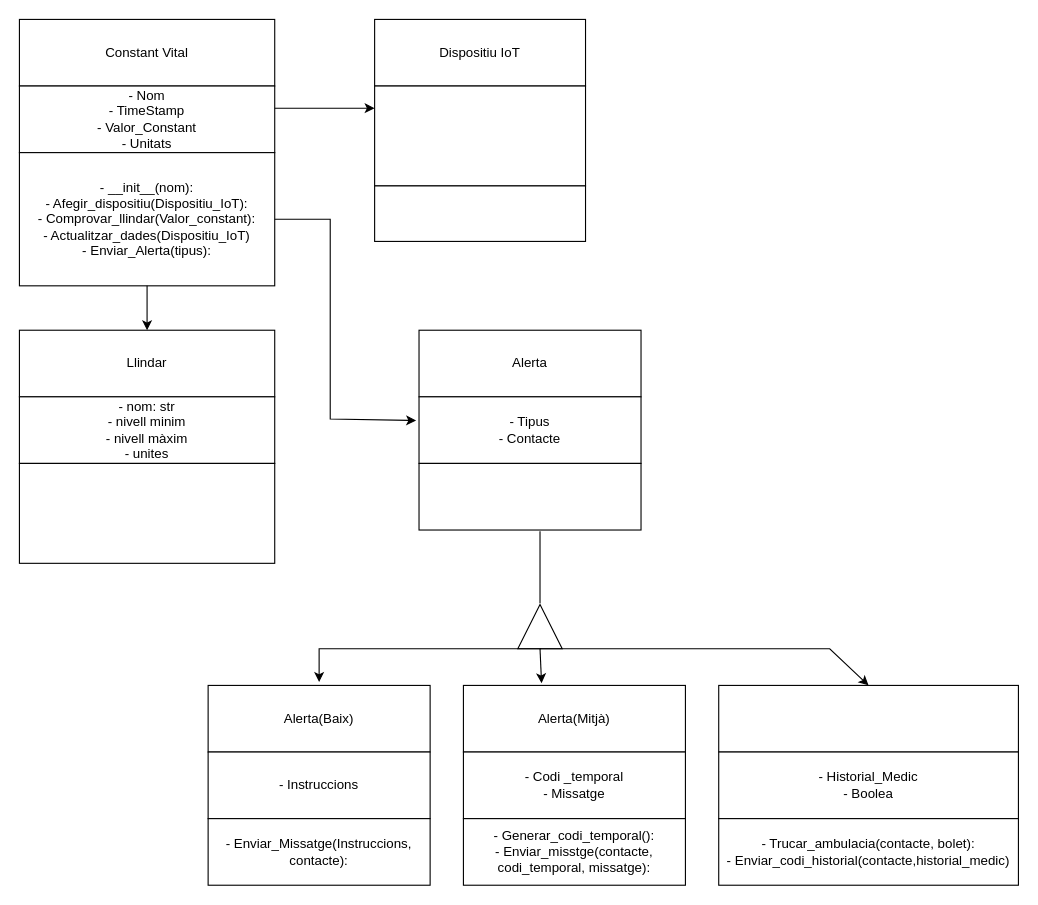
This 1038x905 diagram has some shape labels left out. The shapes that lost their labels are listed below. From the top down, each one's box as (x1, y1, x2, y2) in pixels, then its label:
(374, 85, 586, 186): - Nom - Id - Num_Serie - Potencia - Freqüencia
(374, 185, 586, 241): - __init__(): - Enviar_dades():
(18, 462, 275, 563): - Afegir_llindar - Comprovar_llindar
(418, 462, 641, 530): - __init__(tipus, contacte):
(718, 684, 1018, 752): Alerta(Alt)
